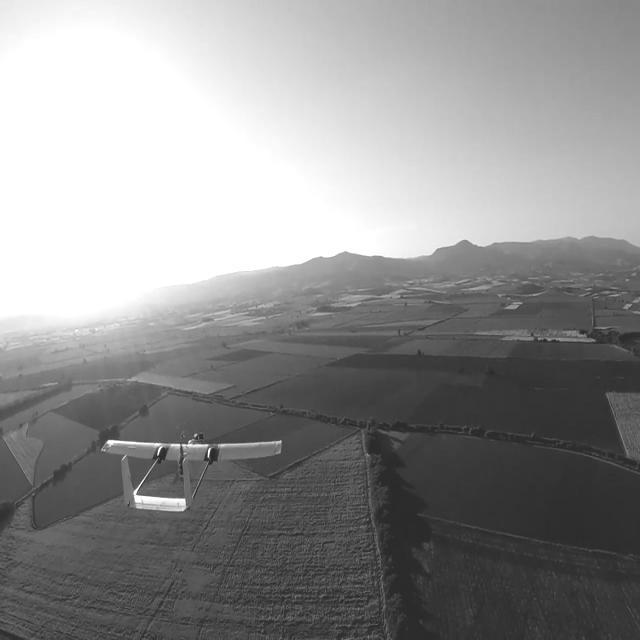iha: (97, 461, 290, 485)
